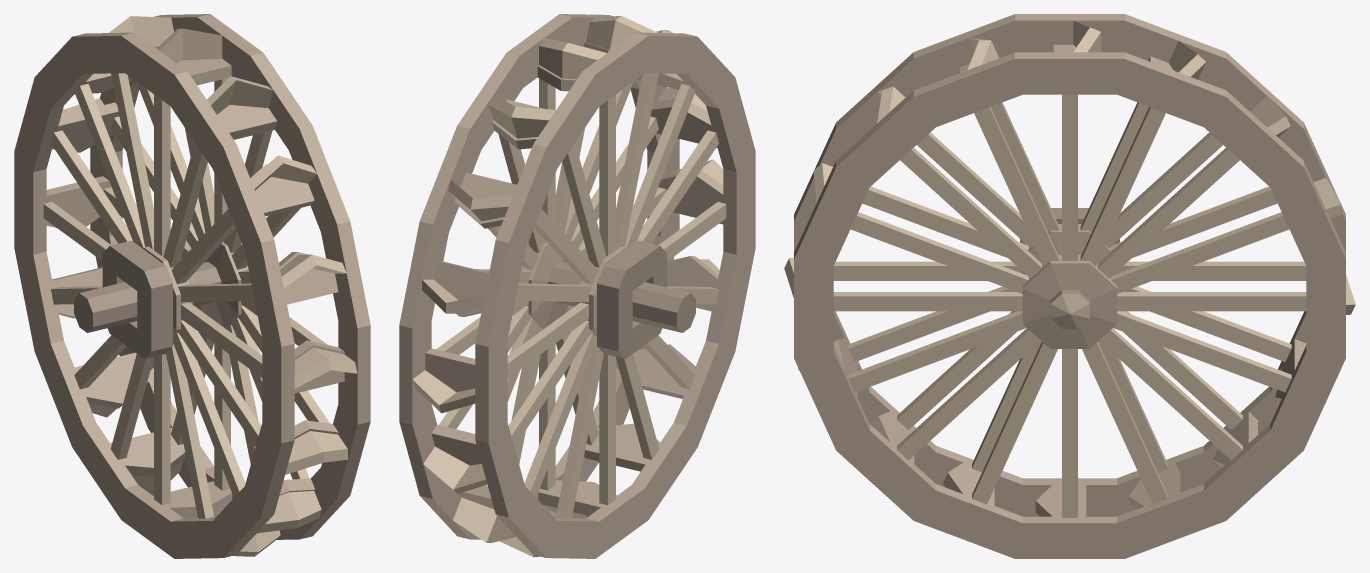
The model's file is waterwheel-col.gltf.
3 renders of one model, left to right at view 1: azimuth 30°, elevation 25°; view 2: azimuth 150°, elevation 25°; view 3: azimuth 270°, elevation 25°, orthographic. The views are drawn at different scales.
Parts seen in each view (by area): view 1: waterwheel-col; view 2: waterwheel-col; view 3: waterwheel-col.
Boxes of the visible parts, x1=… form: waterwheel-col: x1=14, y1=14, x2=370, y2=558; waterwheel-col: x1=399, y1=14, x2=755, y2=558; waterwheel-col: x1=784, y1=14, x2=1355, y2=558.
Size of the model in its own units: 1.5 by 4.4 by 4.4.
